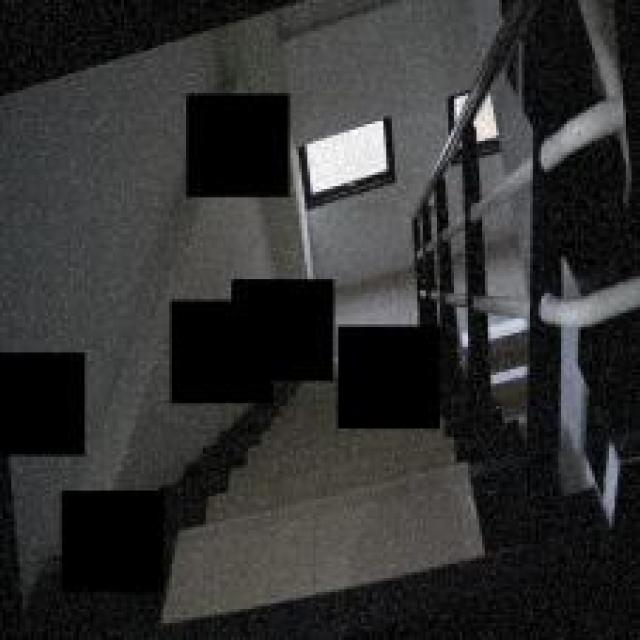downstair: (208, 457, 532, 634)
